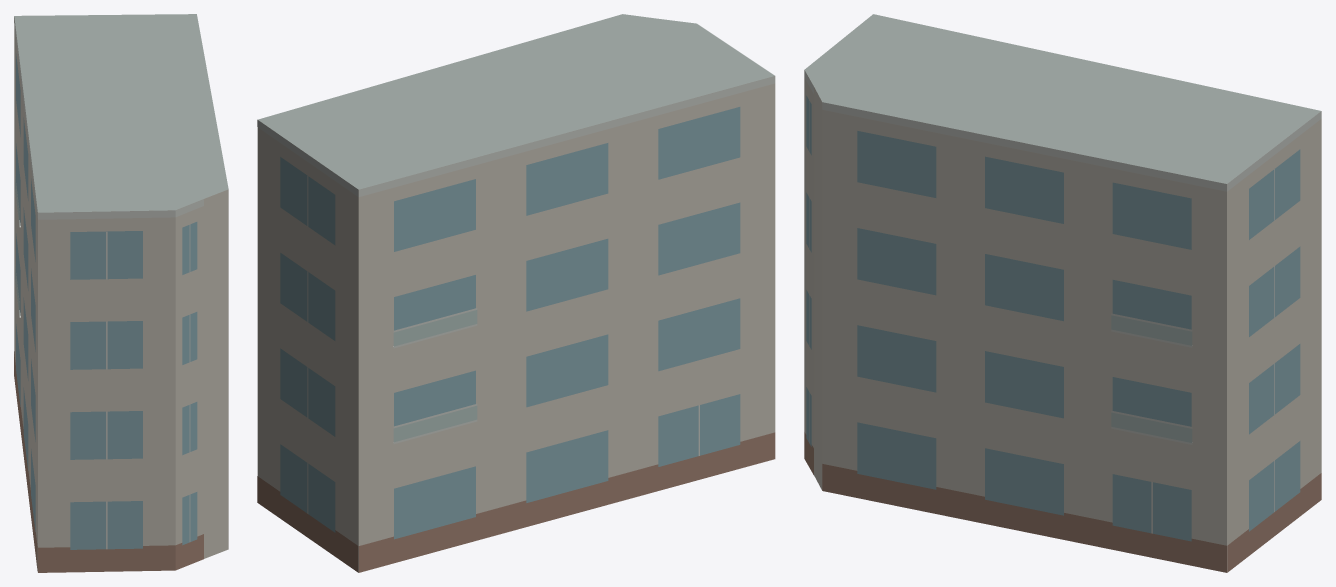
Rendered from survey-upis-32727866.glb.
The picture shows the model from 3 angles, left to right: view 1: azimuth 30°, elevation 25°; view 2: azimuth 150°, elevation 25°; view 3: azimuth 270°, elevation 25°; orthographic projection. The views are drawn at different scales.
Visible parts, largest first — view 1: survey-upis-32727866.tmp; view 2: survey-upis-32727866.tmp; view 3: survey-upis-32727866.tmp.
Part boxes in pixels (x1,y1,x2,y2): survey-upis-32727866.tmp: (14,14,228,572); survey-upis-32727866.tmp: (257,14,775,572); survey-upis-32727866.tmp: (804,14,1321,572).
Bounding box in the file's own units: 11.64 × 12.4 × 14.96.
